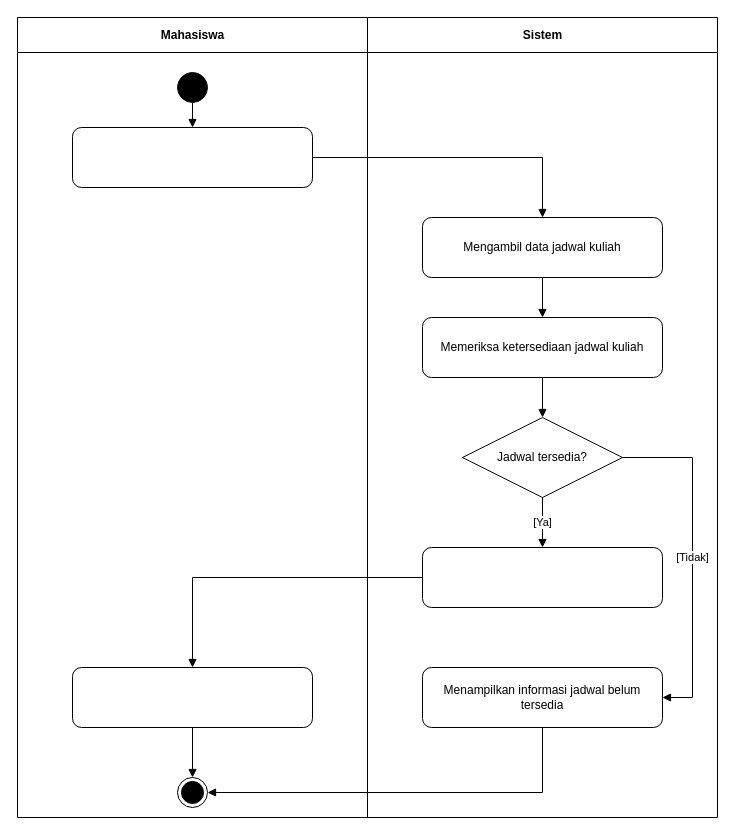
This 735x835 diagram has some shape labels left out. The shapes that lost their labels are listed below. From the top down, each one's centre as x and y in pixels, then its label:
At point (192, 157): "Membuka menu jadwal kuliah".
At point (542, 577): "Menampilkan jadwal kuliah mahasiswa".
At point (192, 697): "Melihat informasi jadwal kuliah".
